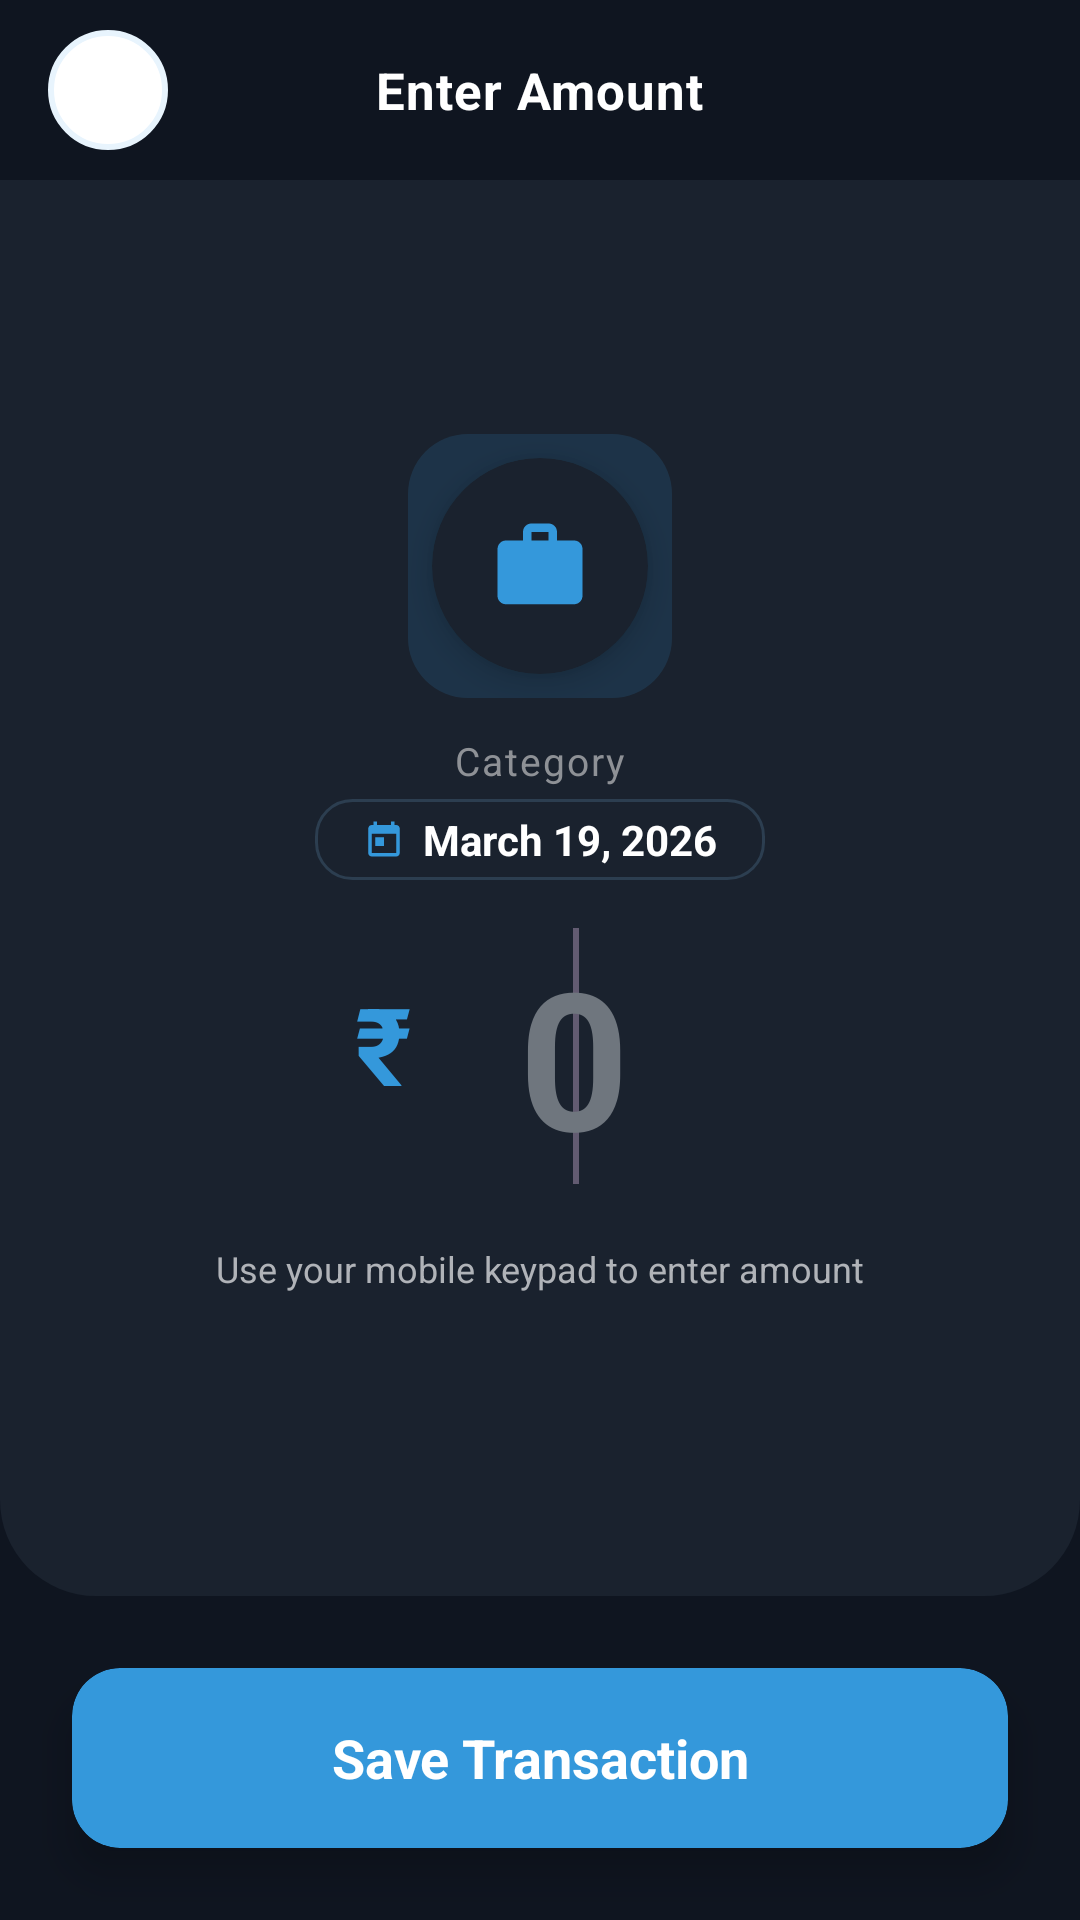

Screen size 1080×1920. Icon name, then its box in pixels as (x1, y1, x2, y2):
briefcase: (497, 523, 583, 605)
calendar: (368, 821, 400, 857)
